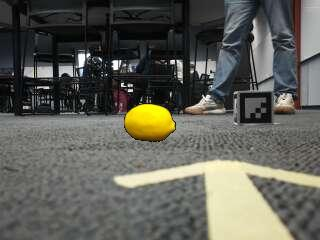lemon: (125, 105, 175, 142)
